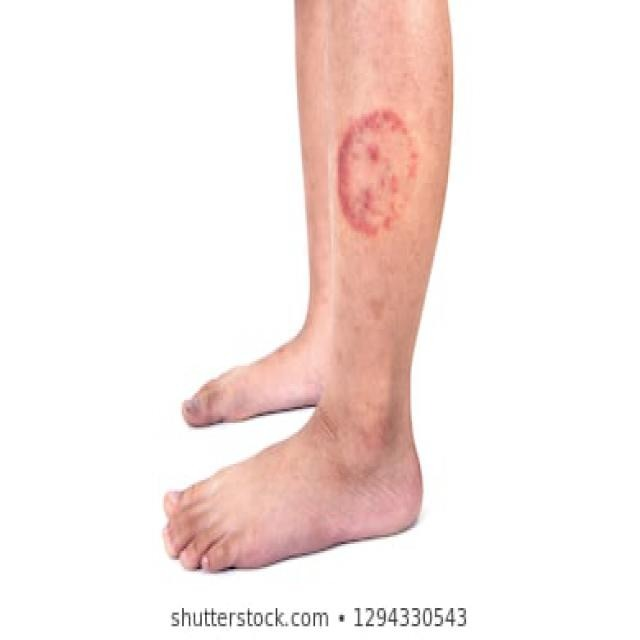Ringworm: (325, 97, 425, 243)
